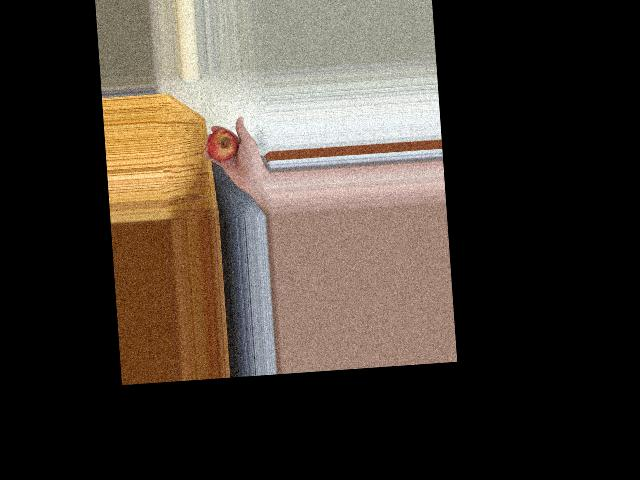apple: (206, 125, 243, 165)
